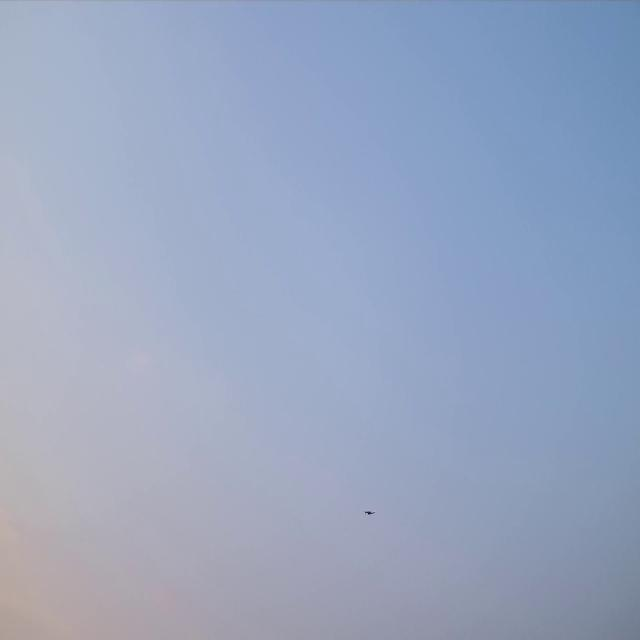UAV: (363, 510, 376, 515)
